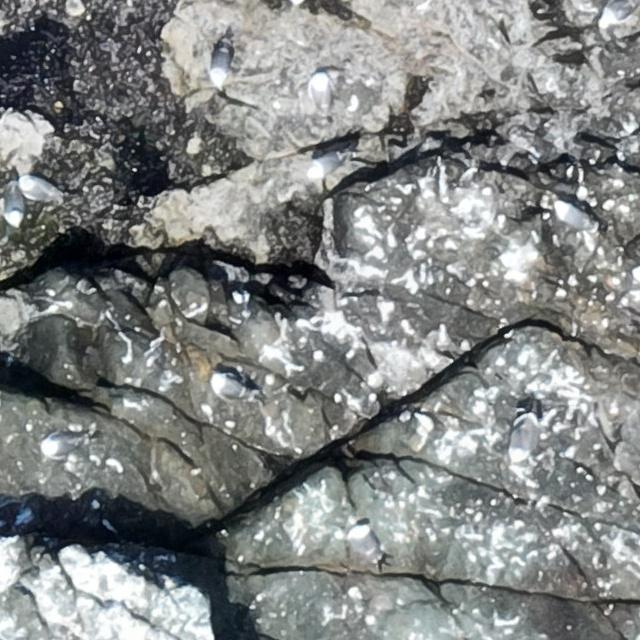umineko: (507, 405, 541, 465), (40, 430, 94, 460), (349, 526, 383, 564), (20, 175, 64, 204), (212, 41, 234, 90), (308, 152, 349, 178), (310, 72, 331, 116), (3, 182, 23, 227), (557, 202, 589, 226), (212, 378, 244, 399)
